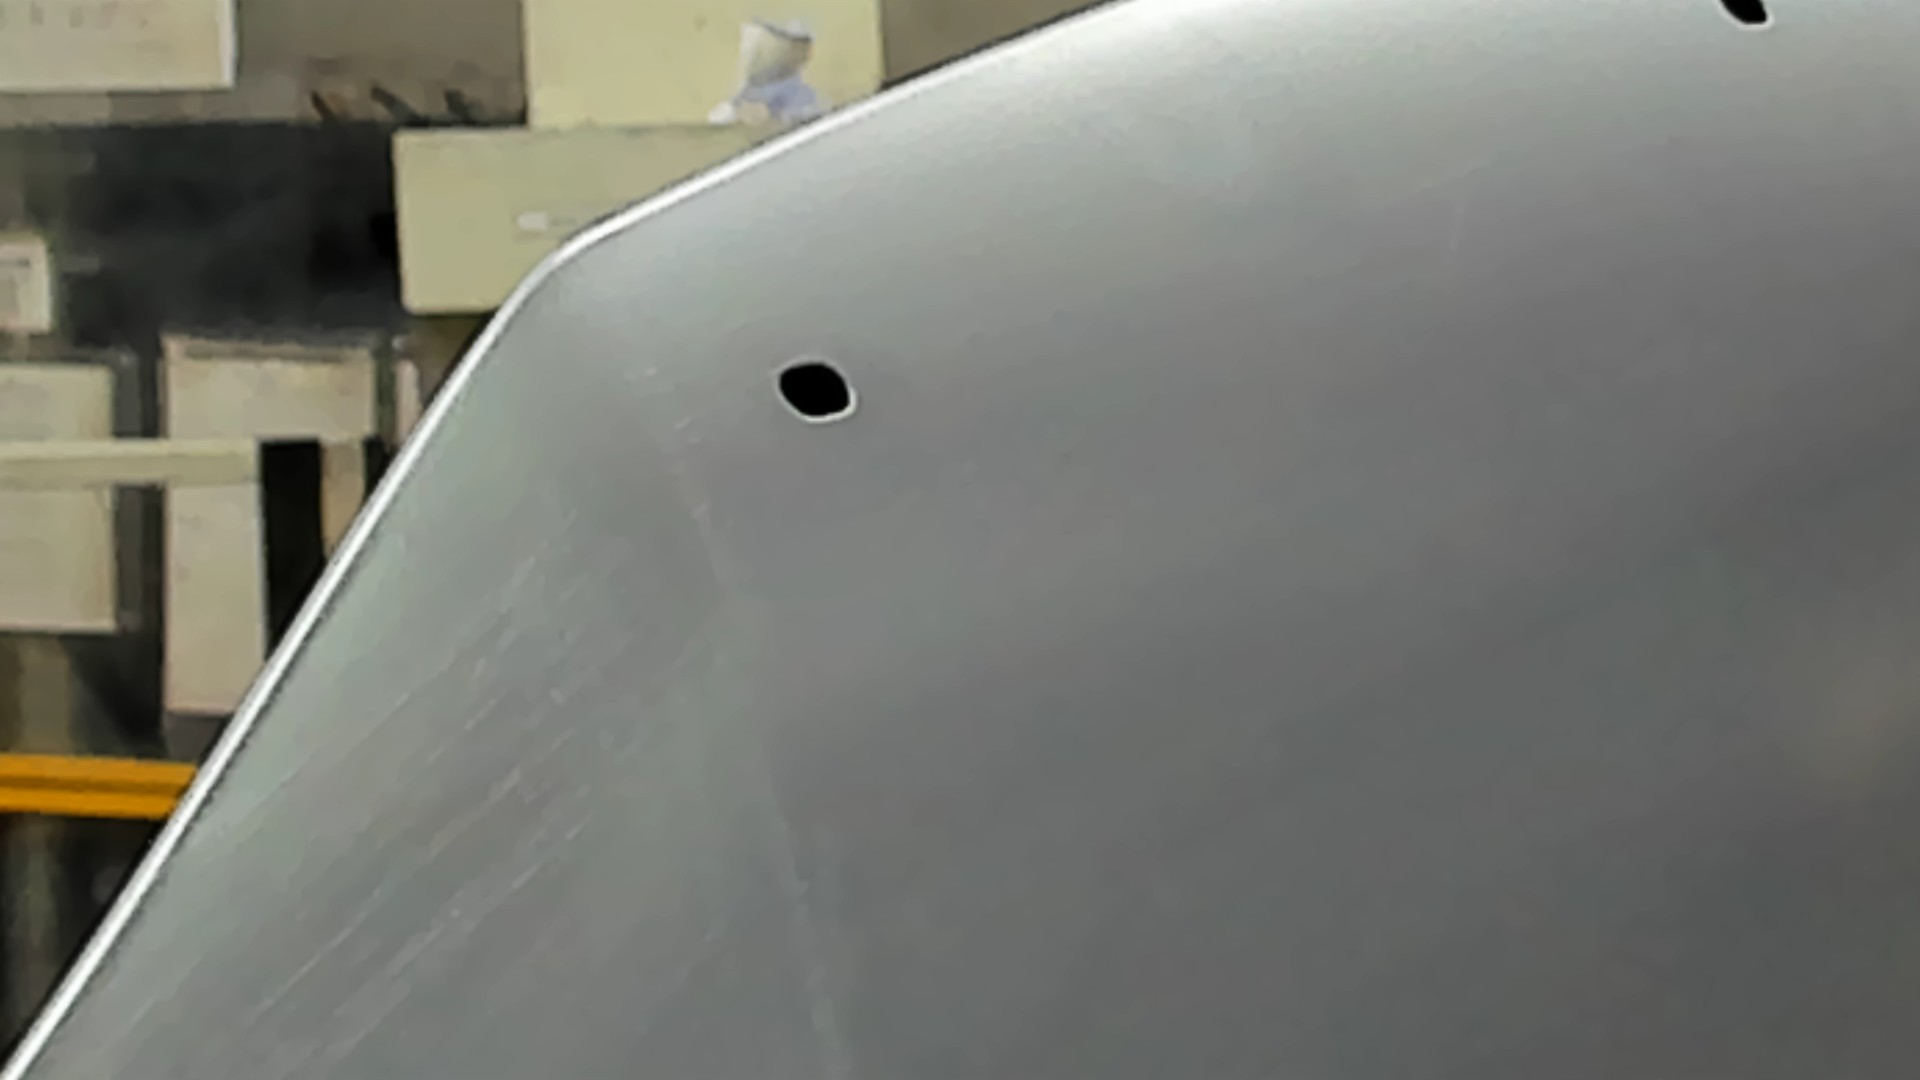amorfo: (775, 357, 855, 422), (1712, 1, 1785, 32)
